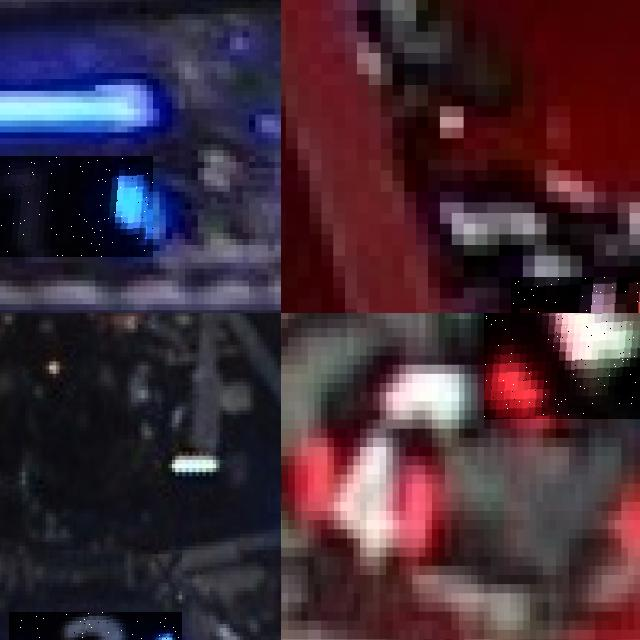B1: (0, 156, 152, 256)
B3: (8, 611, 182, 640)
R4: (288, 410, 438, 548), (484, 313, 640, 419), (511, 276, 640, 313), (608, 419, 640, 565)
